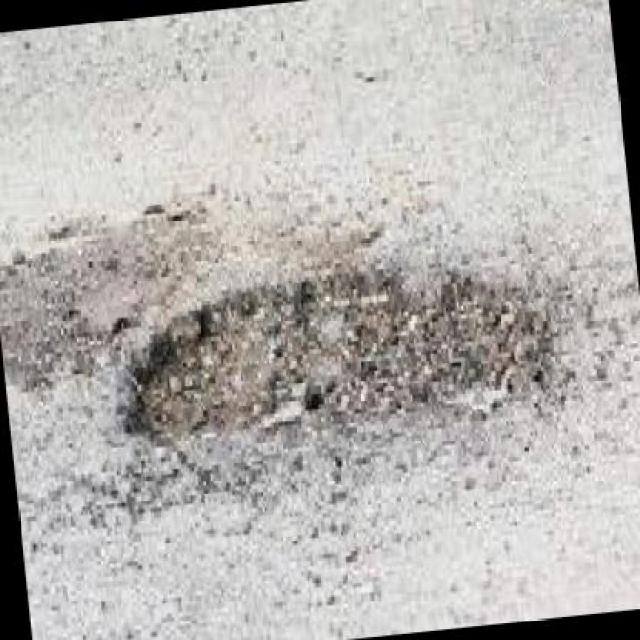pothole1: (104, 234, 564, 454)
